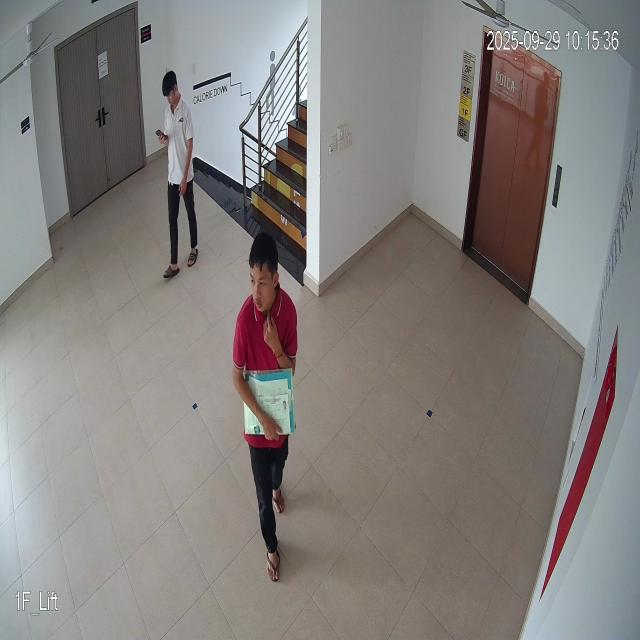face: (245, 232, 282, 318), (162, 68, 181, 113)
